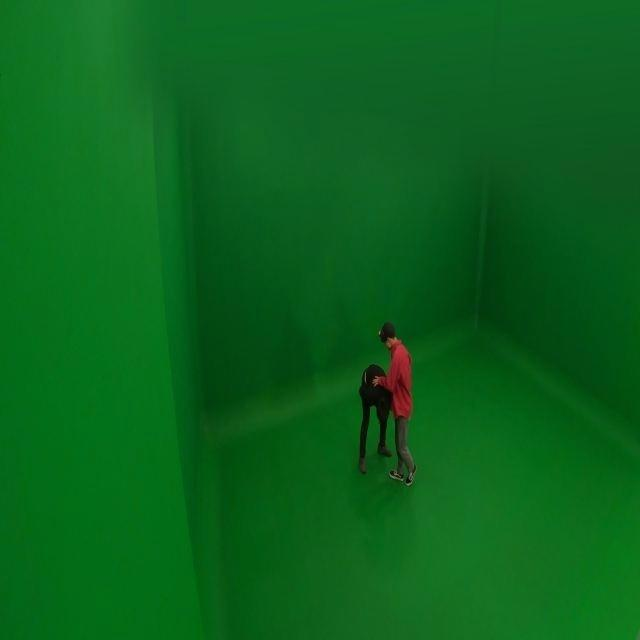fight: (354, 322, 419, 486)
